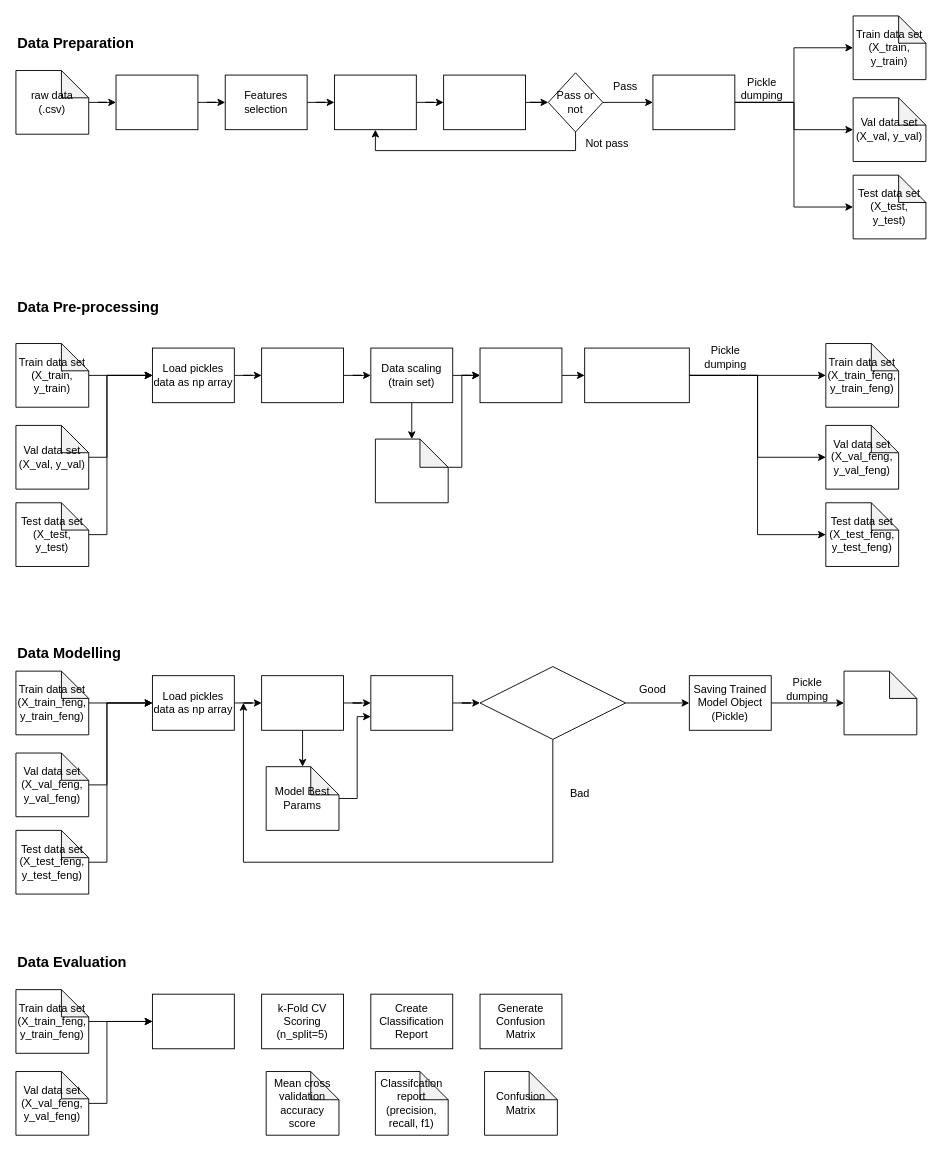
The diagram is 942 pixels wide and 1151 high, and some of its shapes have lost their labels. The centre of each missing label's shape, as x and y in pixels:
Compare model training score and val score (check over or under fit): point (552, 702)
Data cleaning (outlier removal): point (302, 375)
Data Cleaning (type conversion): point (375, 102)
Data Defense (validation): point (484, 102)
Data label encoding (y_train, y_val, y_test): point (636, 375)
Data scaling (val & test set): point (520, 375)
Data Splitting (train, val, test): point (693, 102)
Hyperparameter tuning (GridSearchCV): point (302, 702)
Load data to pandas df: point (156, 102)
Load model and test data pickles: point (193, 1021)
Model Object (Pickle): point (880, 702)
Model Training: point (411, 702)
Standard Scaler Object (pickle): point (411, 470)
